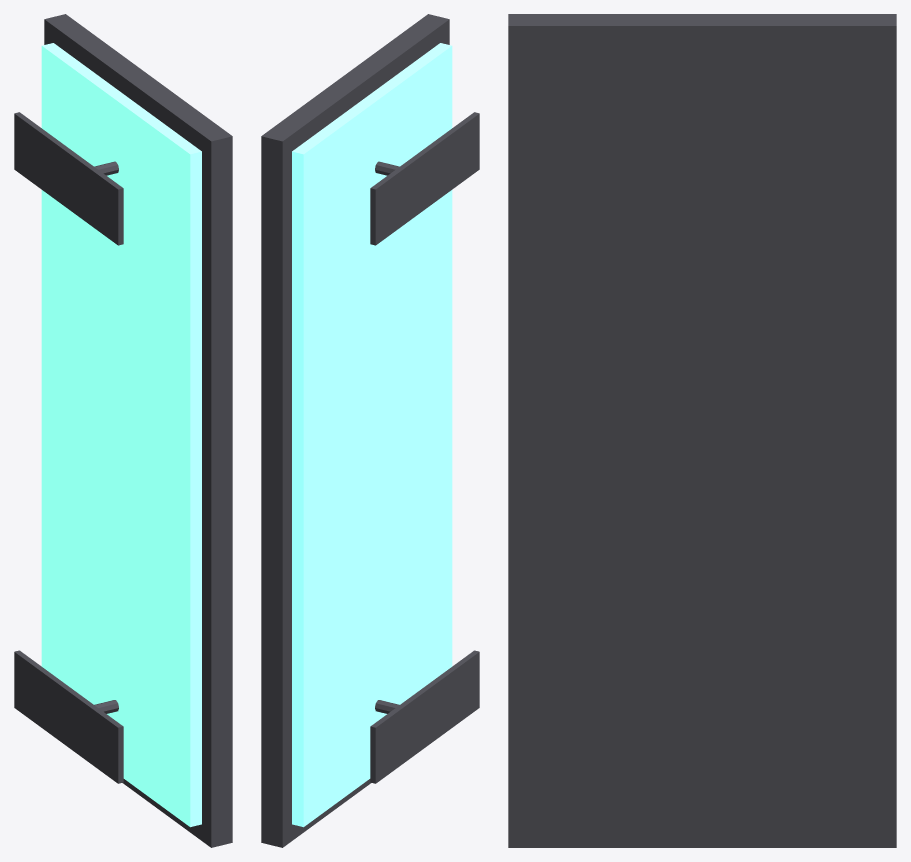
Rendered from bt-fh6-sign-green.glb.
The picture shows the model from 3 angles, left to right: view 1: azimuth 30°, elevation 25°; view 2: azimuth 150°, elevation 25°; view 3: azimuth 270°, elevation 25°; orthographic projection. The views are drawn at different scales.
Visible parts, largest first — view 1: bt-fh6-sign-green_board, bt-fh6-sign-green_frame, bt-fh6-sign-green_bar1.2, bt-fh6-sign-green_bar6.0; view 2: bt-fh6-sign-green_board, bt-fh6-sign-green_frame, bt-fh6-sign-green_bar1.2, bt-fh6-sign-green_bar6.0; view 3: bt-fh6-sign-green_frame.
Boxes of the visible parts, box(x1,y1,x2,y2) form: bt-fh6-sign-green_board: box(41, 43, 201, 827); bt-fh6-sign-green_frame: box(44, 14, 232, 847); bt-fh6-sign-green_bar1.2: box(14, 650, 123, 783); bt-fh6-sign-green_bar6.0: box(14, 112, 123, 245); bt-fh6-sign-green_board: box(292, 43, 452, 827); bt-fh6-sign-green_frame: box(261, 14, 449, 847); bt-fh6-sign-green_bar1.2: box(370, 650, 479, 783); bt-fh6-sign-green_bar6.0: box(370, 112, 479, 245); bt-fh6-sign-green_frame: box(508, 14, 896, 847).
Size of the model in its own units: 0.775 by 6.3 by 2.7.
